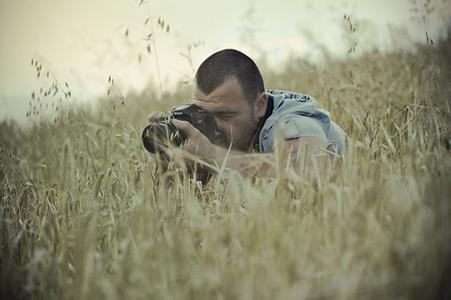person: (148, 49, 354, 201)
